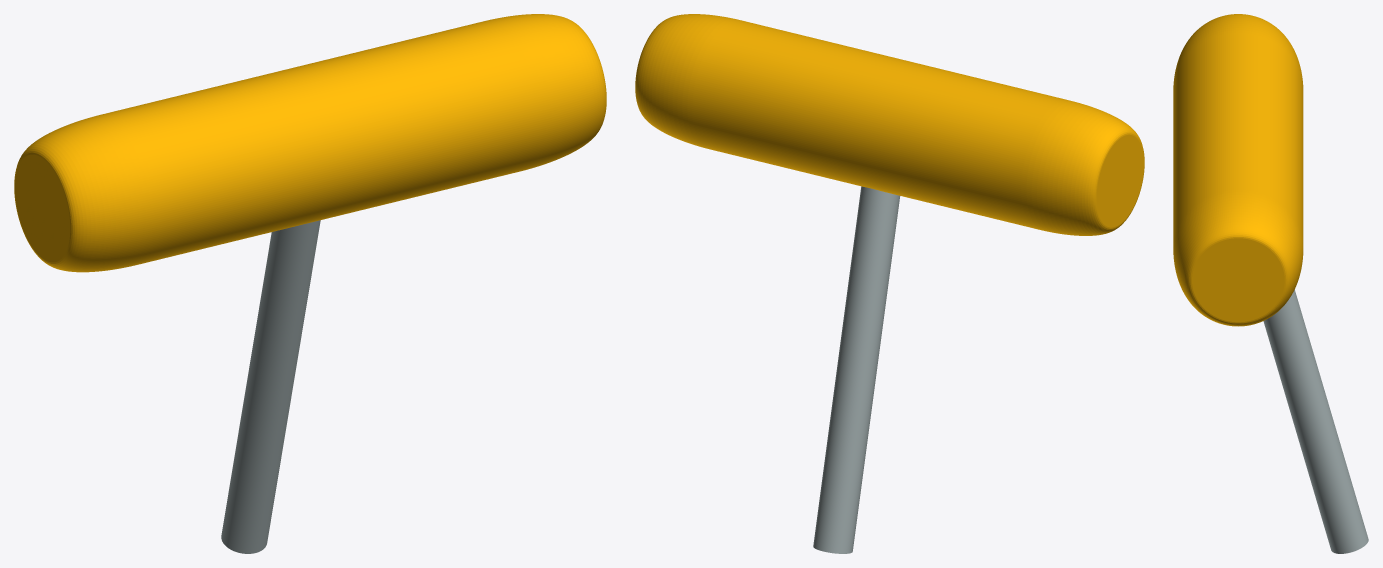
The model's file is Lever_Yellow2.glb.
3 renders of one model, left to right at view 1: azimuth 30°, elevation 25°; view 2: azimuth 150°, elevation 25°; view 3: azimuth 270°, elevation 25°, orthographic. The views are drawn at different scales.
Visible parts, largest first — view 1: Lever Top, Lever Body; view 2: Lever Top, Lever Body; view 3: Lever Top, Lever Body.
Part boxes in pixels (box(x1,y1,x2,y2)): Lever Top: box(14, 14, 606, 272); Lever Body: box(221, 220, 320, 553); Lever Top: box(635, 14, 1144, 235); Lever Body: box(813, 186, 900, 553); Lever Top: box(1173, 14, 1303, 326); Lever Body: box(1263, 290, 1368, 553).
Bounding box in the file's own units: 0.2 × 0.1856 × 0.0751.
